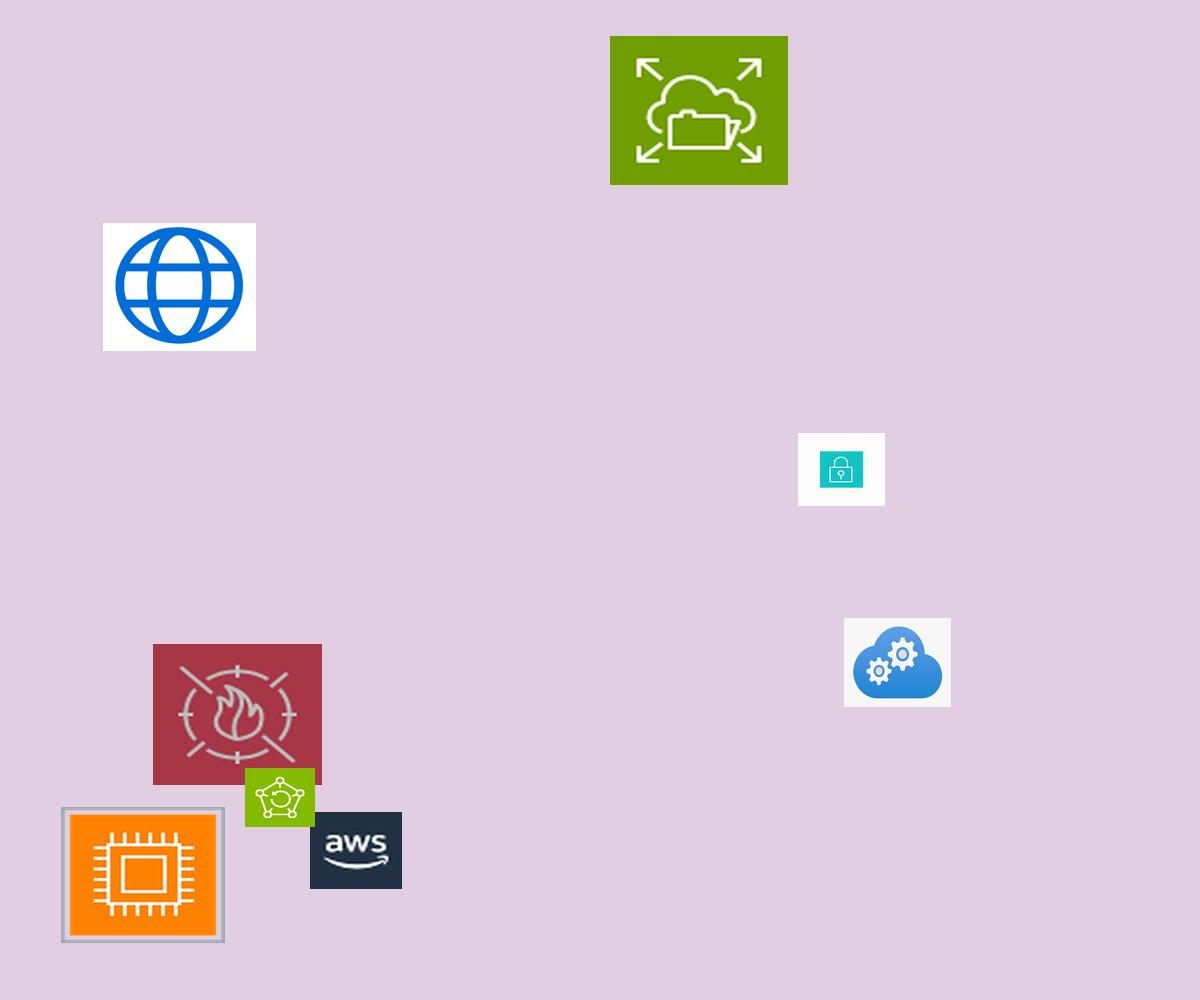AWS-Backup: (245, 768, 315, 827)
AWS-Category_Compute: (61, 807, 225, 943)
AWS-Cloud-logo: (310, 812, 402, 889)
AWS-EFS: (610, 36, 788, 185)
AWS-Private-subnet: (798, 433, 885, 506)
AWS-WAF: (153, 644, 322, 785)
Azure_cloud_services: (844, 618, 951, 707)
Azure_http: (103, 223, 256, 351)
